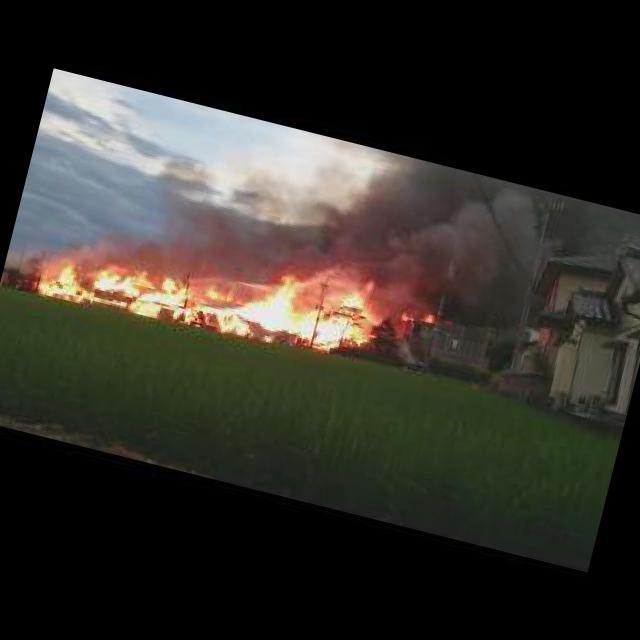fire: (36, 205, 382, 374), (421, 310, 436, 326), (402, 312, 414, 322)
smoke: (133, 96, 637, 352)
